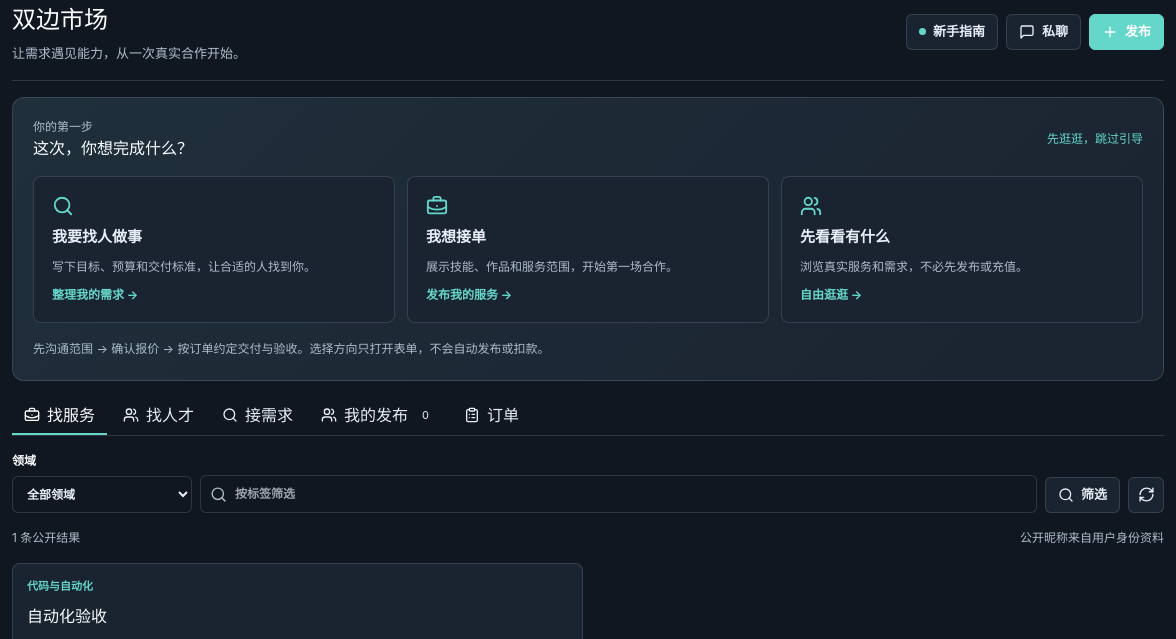
Test: MarketExperience real flows › guides a new buyer to an unpublished demand and can be replayed
Expected: the element with test id "market-guide" is shown, 12,96 -> 1164,381
Click the button with test id "market-guide-hire": x=97, y=236 33,176 -> 395,323
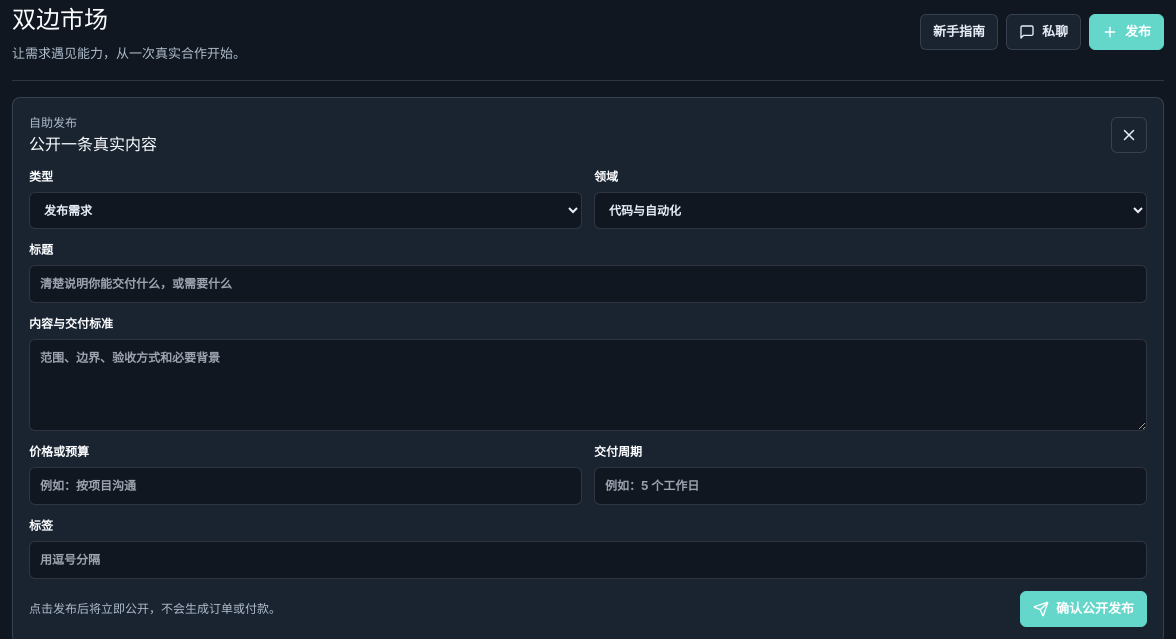
Now the dropdown labelled "类型" shows "发布需求", box 29,192 -> 582,228
Click the button with test id "market-guide-toggle": x=959, y=32 920,14 -> 998,50
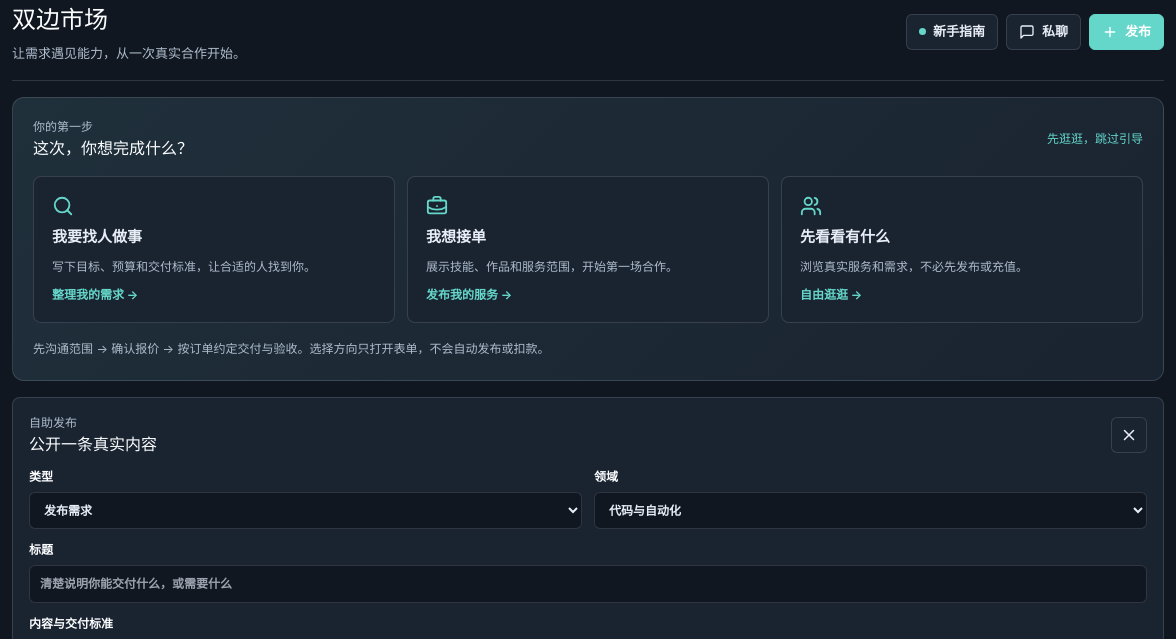
Now the element with test id "market-guide" is shown, box 12,96 -> 1164,381
